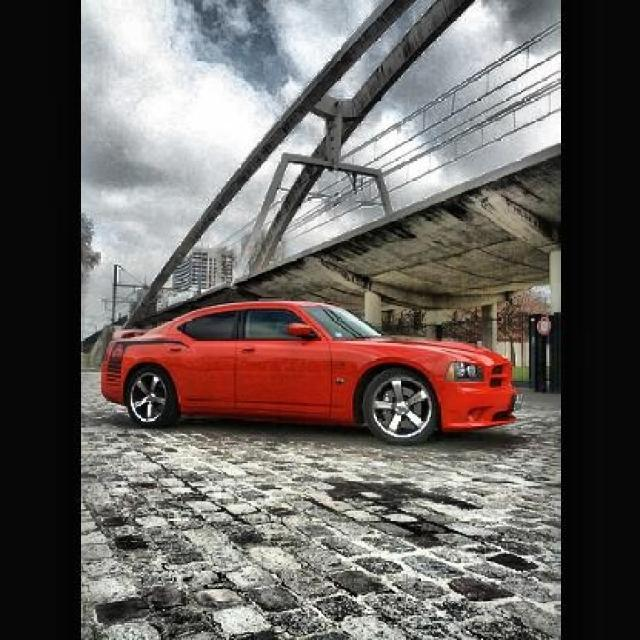red: (100, 298, 522, 441)
